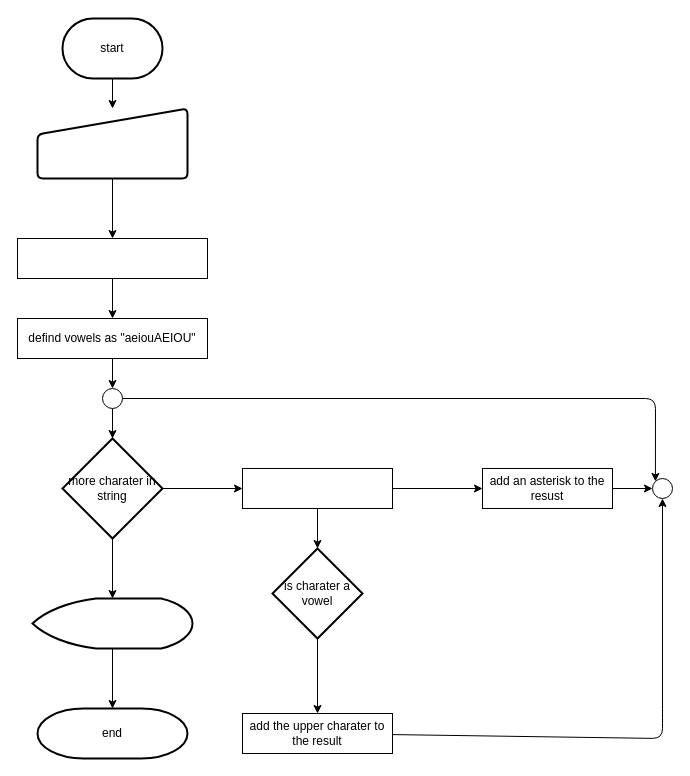
The diagram is 690 pixels wide and 776 high, and some of its shapes have lost their labels. Here are the shapes that lost their labels. From the top down, the box of each, then its label:
(36, 107, 188, 179): read input string from the user.
(16, 238, 208, 278): initiaze an empty string for thr result
(242, 468, 392, 508): convert charater to uppercase
(31, 597, 193, 649): print the modifind string
